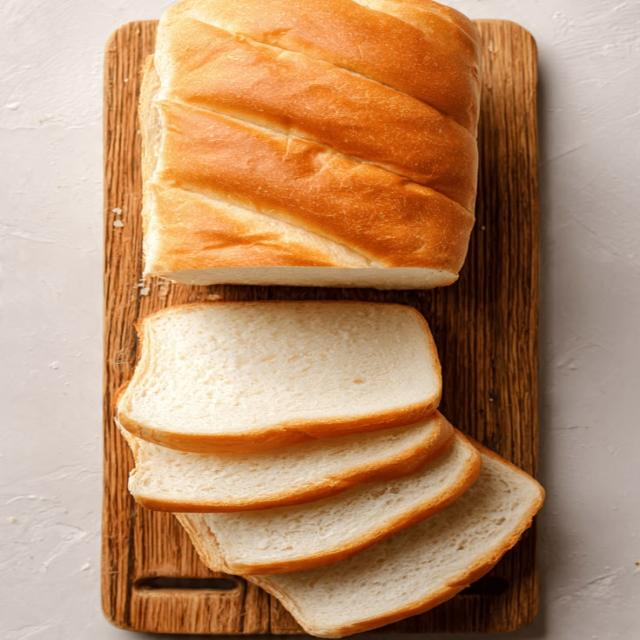bread: (140, 0, 482, 289)
sliced bread: (253, 448, 541, 637), (118, 302, 441, 451), (180, 430, 479, 574), (120, 417, 453, 512)
